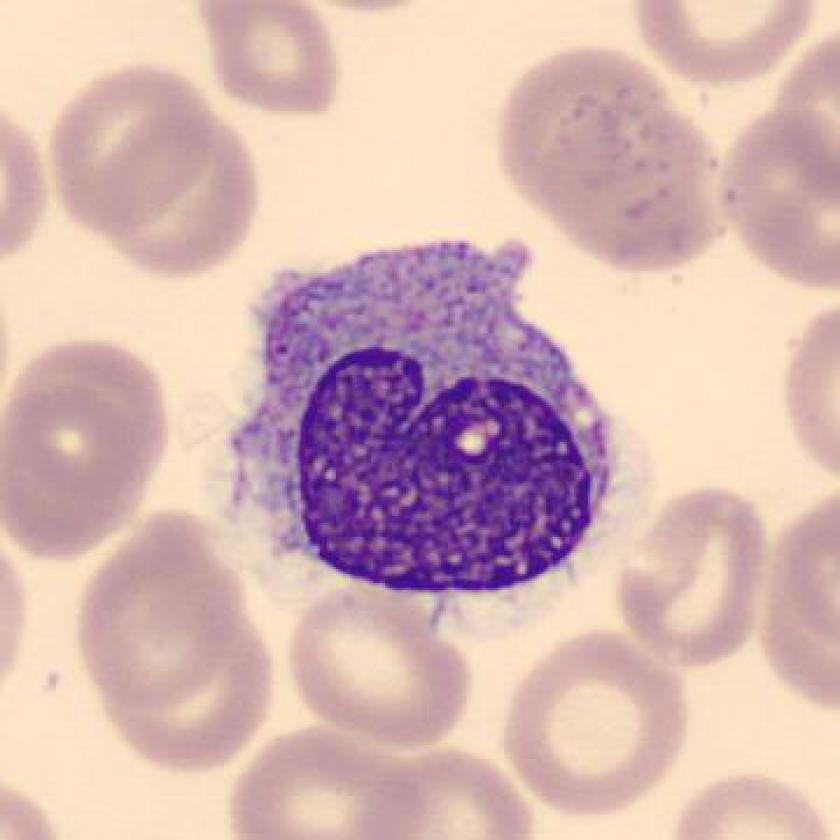monocyte: (200, 219, 655, 651)
